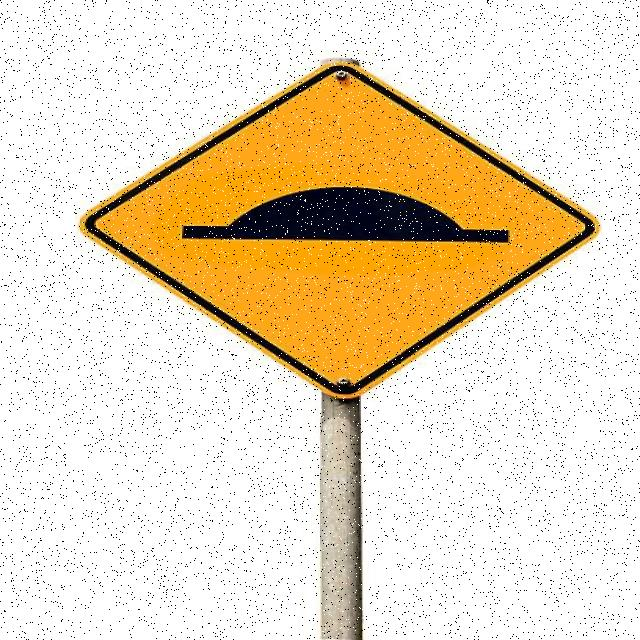Bump: (78, 59, 604, 398)
